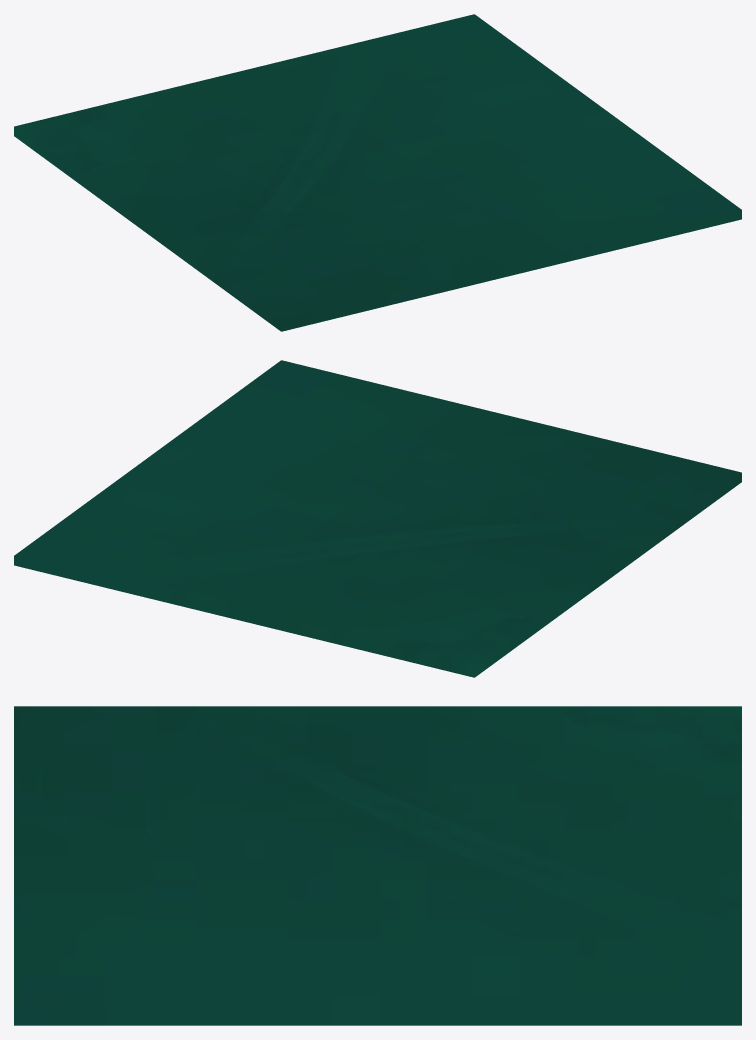
File: z16-10485-25322-h0-yup-uvflip-v3-world.glb
3 renders of one model, top to bottom at view 1: azimuth 30°, elevation 25°; view 2: azimuth 150°, elevation 25°; view 3: azimuth 270°, elevation 25°, orthographic. The views are drawn at different scales.
Size of the model in its own units: 483 by 9.6 by 485.
1 material, 1 textured.
